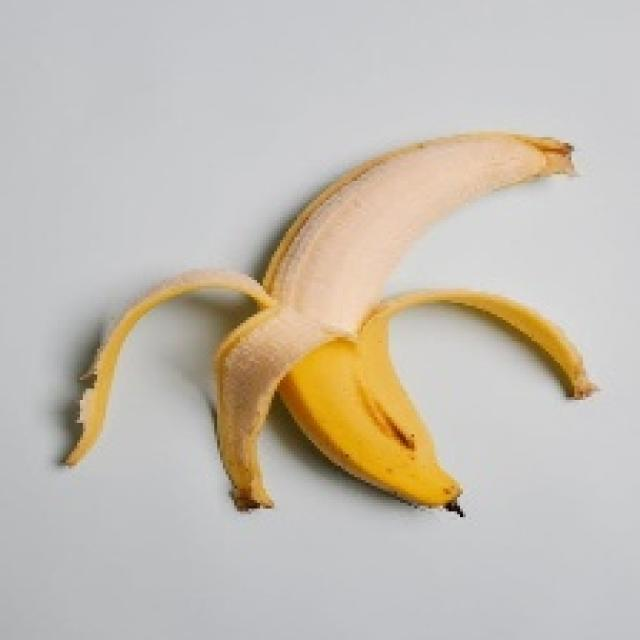Banana: (57, 129, 597, 517)
